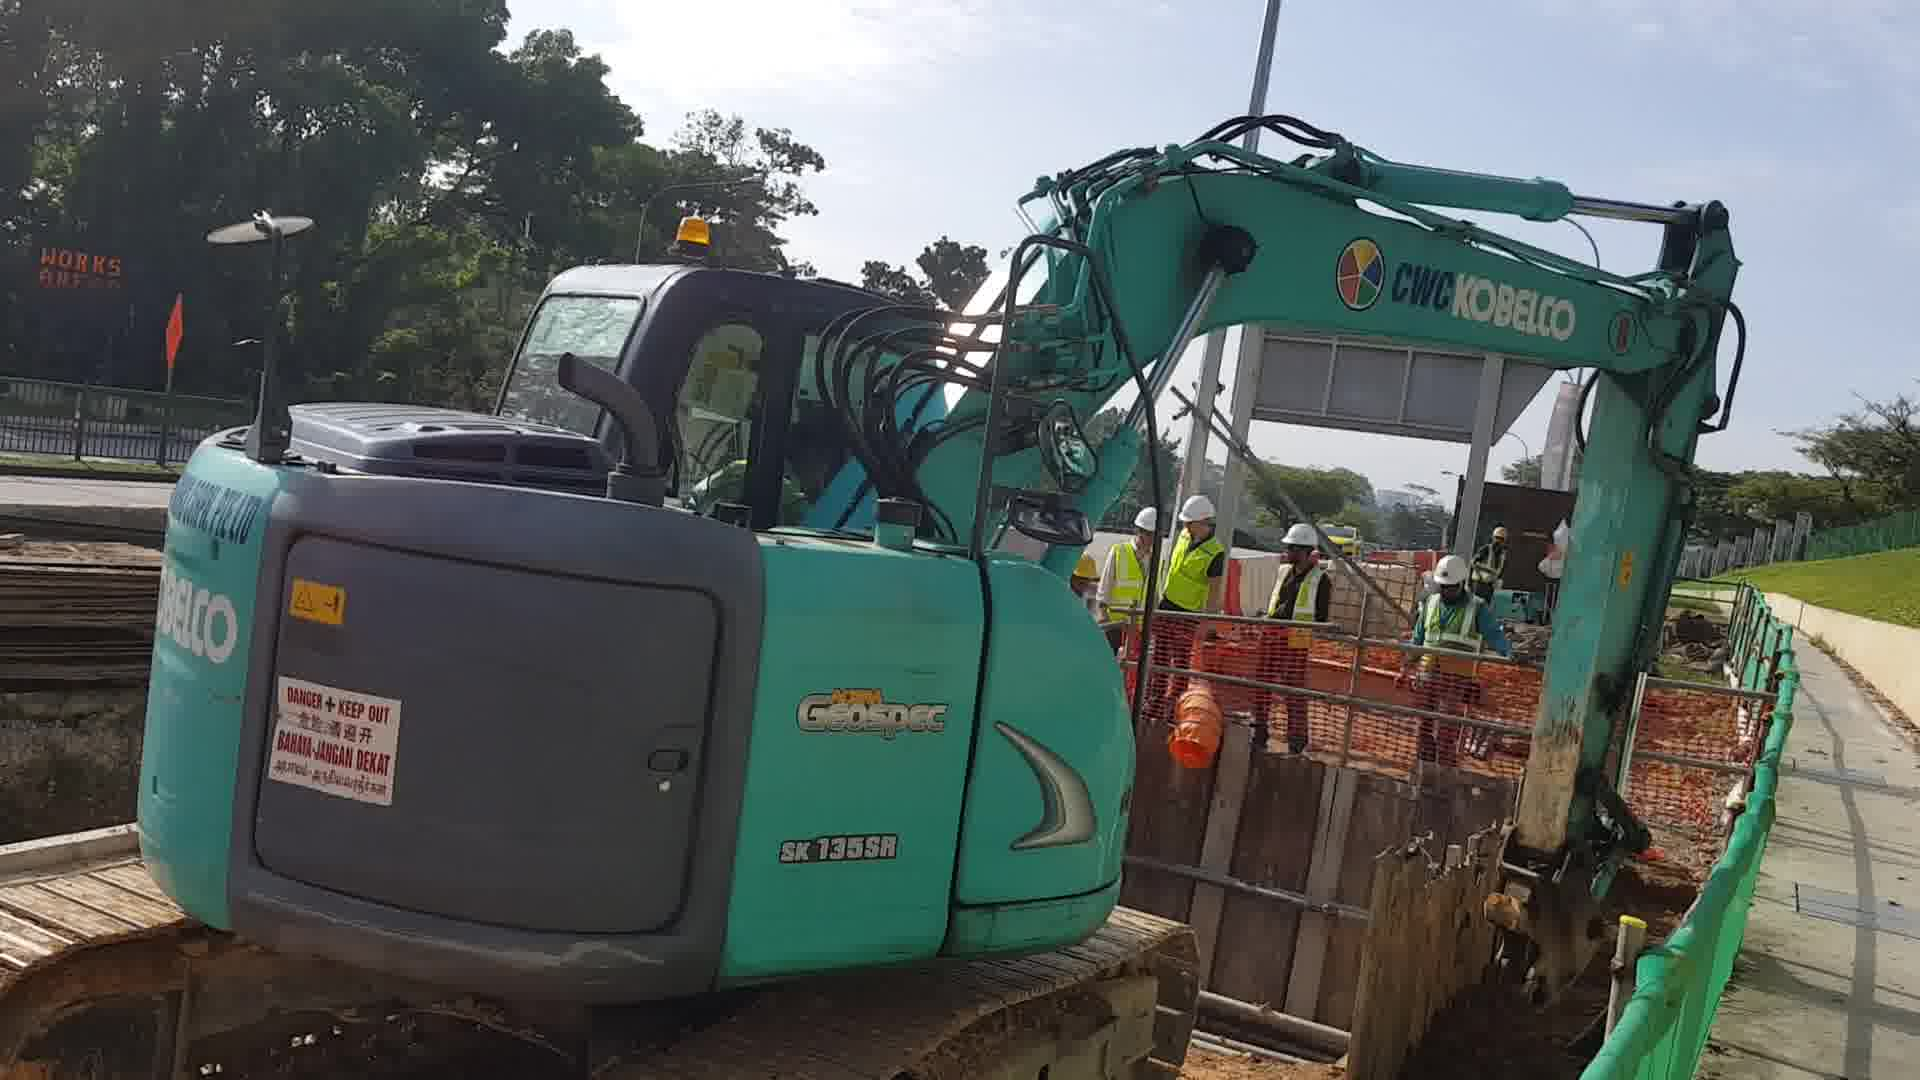cabin: (136, 218, 1130, 1000)
forearm: (1505, 193, 1746, 845)
upperarm: (800, 167, 1688, 531)
wheelbase: (5, 837, 1218, 1080)
